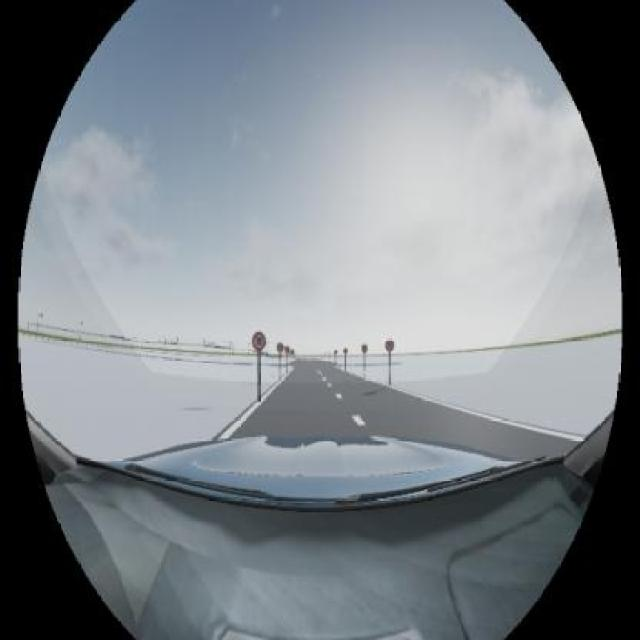forb_speed_over_10: (252, 332, 266, 350), (386, 339, 394, 352)
